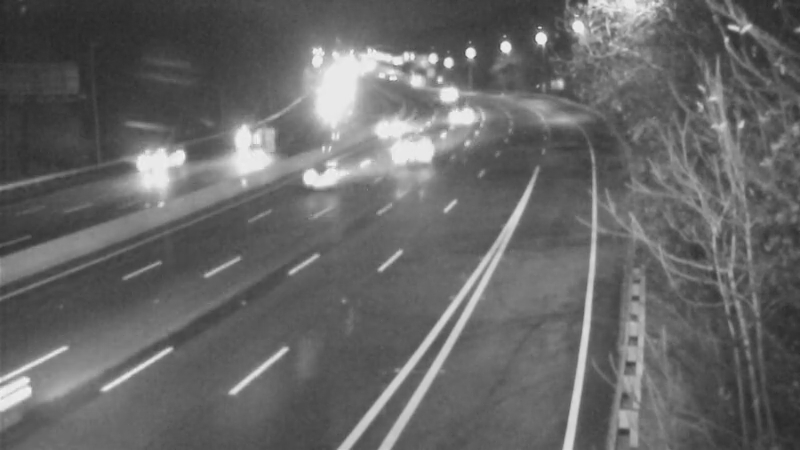vehicle: (1, 342, 89, 450), (292, 135, 372, 215), (109, 126, 189, 206), (425, 69, 475, 119), (434, 85, 484, 135), (360, 104, 410, 154), (398, 121, 448, 171), (214, 121, 264, 171)
